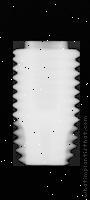Hiossen: (13, 41, 80, 166)
